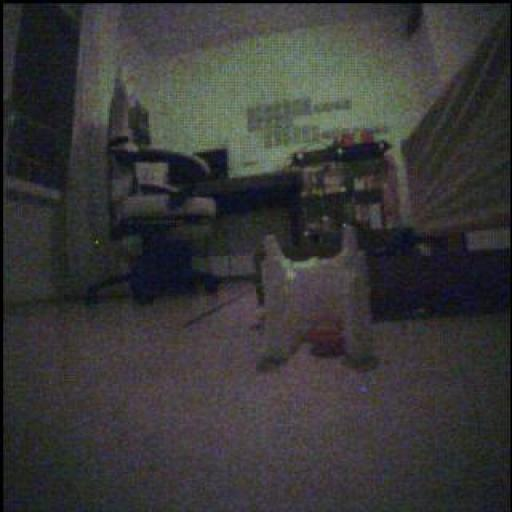basket: (305, 327, 345, 358)
